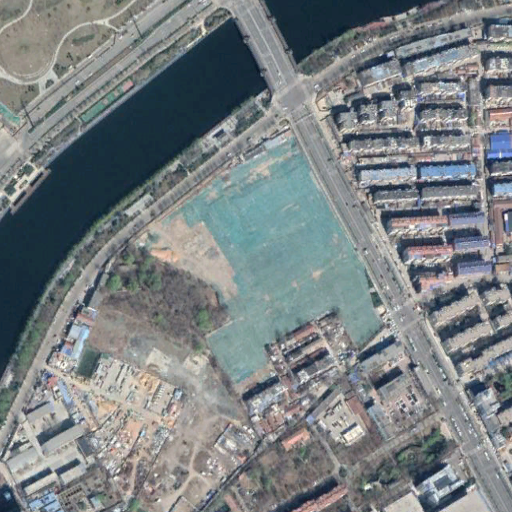cw: (136, 128, 381, 395)
